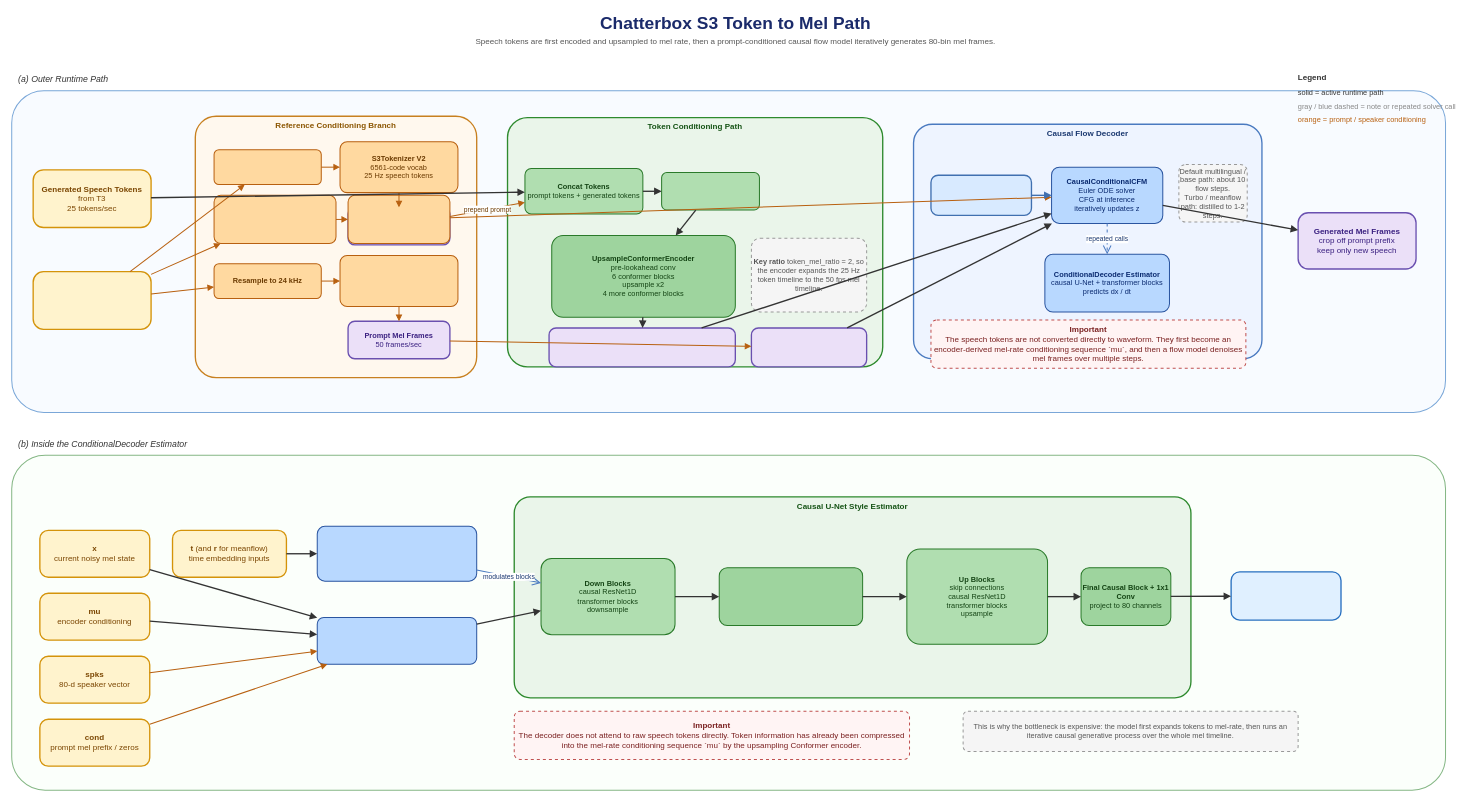
The diagram is 1476 pixels wide and 802 high, and some of its shapes have lost their labels. Each missing label, with the centre of its shape:
CAMPPlus Speaker Encoder x-vector from 16 kHz audio: the point at 274,219
cond prompt mel prefix + zeros for future frames: the point at 808,347
dx / dt predicted flow update: the point at 1285,595
Initial Noise z 80 x T mel tensor: the point at 981,195
Mel Extractor 80 bins 24 kHz / 480 hop: the point at 398,281
Mid Blocks 12 causal ResNet + transformer stages: the point at 790,596
mu 80-channel mel-rate conditioning sequence: the point at 642,347
Pack / Concatenate Channels x + mu + speaker + cond: the point at 396,641
Reference Audio voice prompt up to ~10s: the point at 91,300
Resample to 16 kHz: the point at 267,167
SinusoidalPosEmb + Timestep MLP optional time mixer for meanflow: the point at 396,553
Speaker Affine normalize + project to 80-d: the point at 398,219
Token Embedding 6561 -> 512: the point at 710,191
